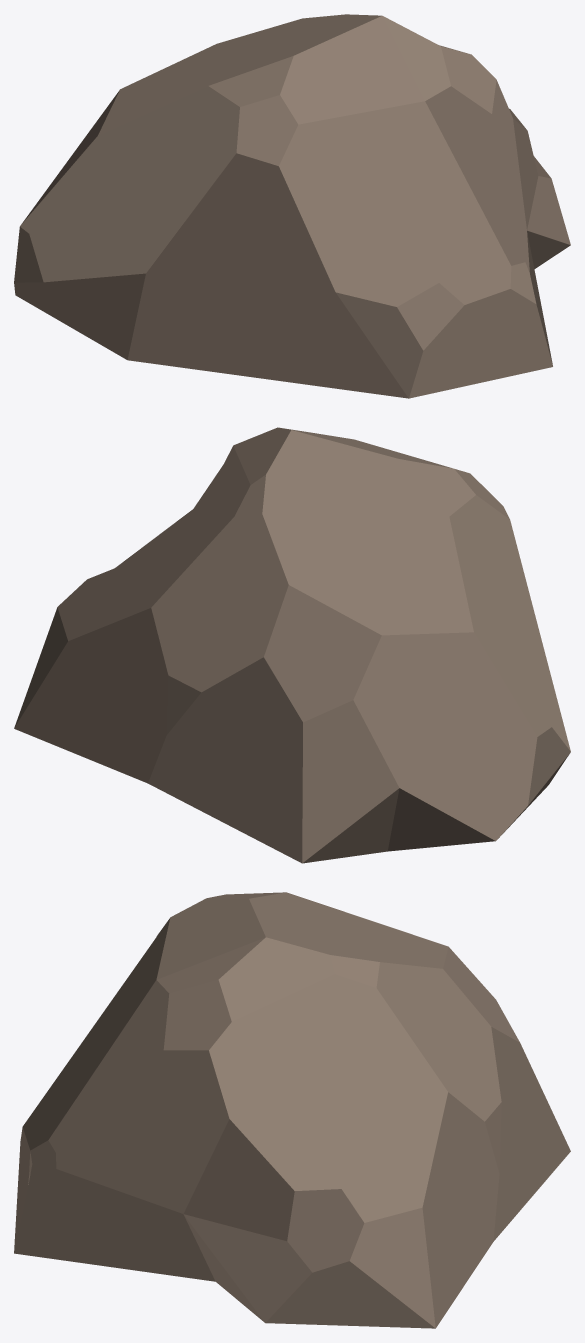
File: Rock_3.fbx
The picture shows the model from 3 angles, top to bottom: view 1: azimuth 30°, elevation 25°; view 2: azimuth 150°, elevation 25°; view 3: azimuth 270°, elevation 25°; orthographic projection. The views are drawn at different scales.
Visible parts, largest first — view 1: Rock3; view 2: Rock3; view 3: Rock3.
Part boxes in pixels (x1,y1,x2,y2): Rock3: (14, 14, 570, 398); Rock3: (14, 427, 570, 863); Rock3: (14, 892, 570, 1328).
Bounding box in the file's own units: 188 × 108 × 174.
